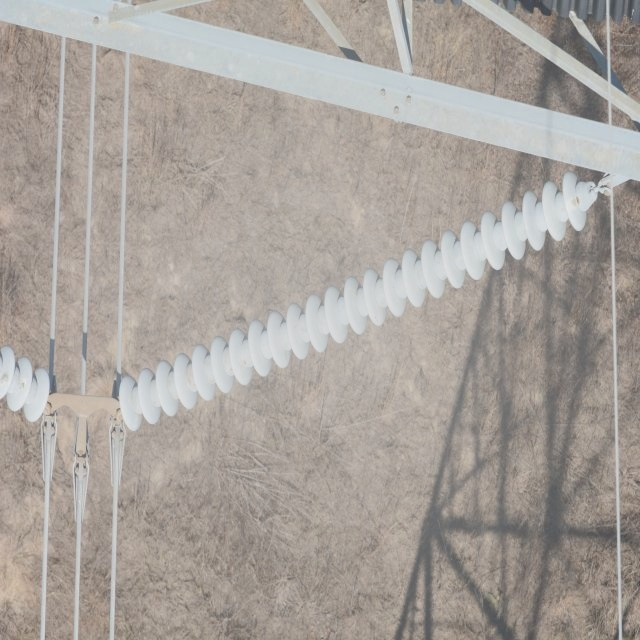insulator: (117, 171, 588, 438), (0, 345, 52, 419)
